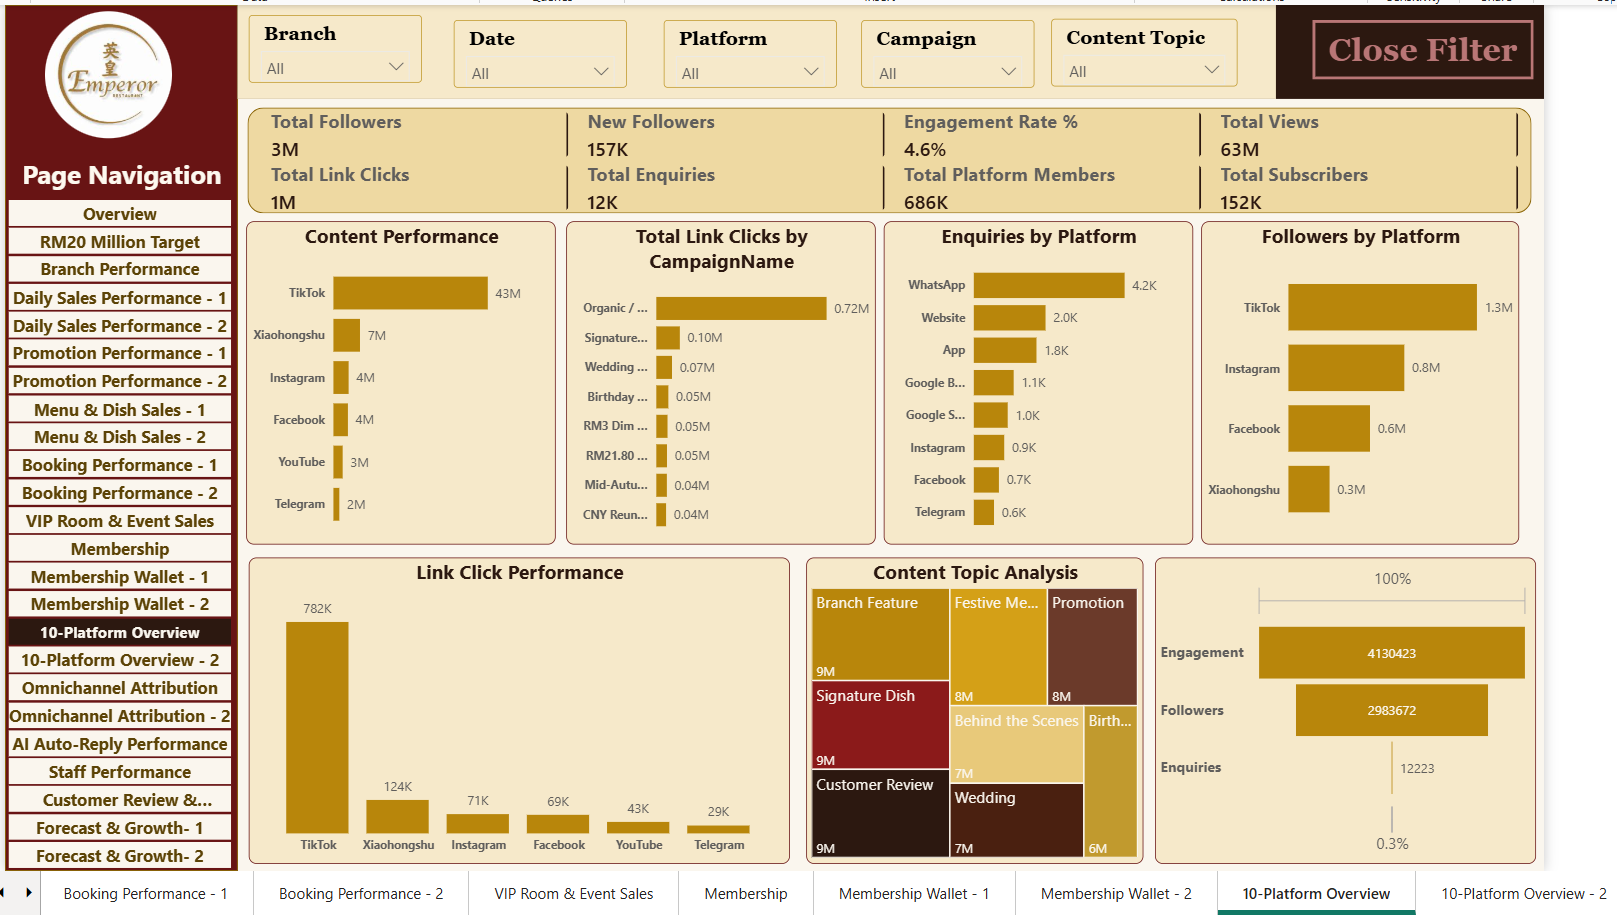

What the dashboard file says about the page in this screenshot:
{"tool":"powerbi","page":{"name":"10-Platform Overview","canvas":[1600,900],"ordinal":15},"visuals":[{"type":"clusteredBarChart","title":"Followers by Platform","fields":{"Category":["Dim_Platform.PlatformName"],"Y":["__DAX_Measures.Total Followers"]},"box":[1243.6,224.1,330.8,336.2],"z":0},{"type":"clusteredBarChart","title":"Content Performance","fields":{"Category":["Dim_Platform.PlatformName"],"Y":["__DAX_Measures.Total Views"]},"box":[251.2,224.1,321.7,336.2],"z":1000},{"type":"clusteredBarChart","title":"Enquiries by Platform","fields":{"Category":["Dim_Platform.PlatformName"],"Y":["__DAX_Measures.Total Enquiries"]},"box":[912.8,224.1,321.7,336.2],"z":2000},{"type":"clusteredColumnChart","title":"Link Click Performance","fields":{"Category":["Dim_Platform.PlatformName"],"Y":["__DAX_Measures.Total Link Clicks"]},"box":[253.1,574.8,562.1,318.1],"z":3000},{"type":"treemap","title":"Content Topic Analysis","fields":{"Group":["Fact_PlatformContent.ContentTopic"],"Values":["__DAX_Measures.Total Views"]},"box":[833.3,574.8,350.7,318.1],"z":4000},{"type":"barChart","fields":{"Category":["Dim_Campaign.CampaignName"],"Y":["__DAX_Measures.Total Link Clicks"]},"box":[583.8,224.1,321.7,336.2],"z":5000},{"type":"funnel","fields":{"Category":["Funnel Stage.Stage"],"Y":["__DAX_Measures.Funnel Value"]},"box":[1194.8,574.8,395.8,318.1],"z":6000},{"type":"shape","box":[0,0,242,900],"z":7000},{"type":"shape","box":[252.1,106.3,1334.5,110],"z":8000},{"type":"cardVisual","fields":{"Data":["__DAX_Measures.Total Followers","__DAX_Measures.New Followers","__DAX_Measures.Engagement Rate %","__DAX_Measures.Total Views","__DAX_Measures.Total Link Clicks","__DAX_Measures.Total Enquiries","__DAX_Measures.Total Platform Members","__DAX_Measures.Total Subscribers"]},"box":[253.9,99.5,1332.8,125.2],"z":9000},{"type":"textbox","box":[241.9,0,1358.5,97.8],"z":10000},{"type":"shape","box":[241.9,0,1078.9,97.8],"z":11000},{"type":"actionButton","title":"Close Filter","box":[1358.5,15.4,229.8,61.7],"z":12000},{"type":"slicer","fields":{"Values":["Dim_Date.Date"]},"box":[466.6,15.4,180.1,70.3],"z":14000},{"type":"slicer","fields":{"Values":["Dim_Branch.BranchName"]},"box":[253.9,10.3,180.1,70.3],"z":15000},{"type":"slicer","fields":{"Values":["Dim_Platform.PlatformName"]},"box":[684.4,15.4,180.1,70.3],"z":16000},{"type":"slicer","fields":{"Values":["Fact_PlatformContent.ContentTopic"]},"box":[1087.5,13.7,193.8,70.3],"z":17000},{"type":"slicer","fields":{"Values":["Dim_Campaign.CampaignName"]},"box":[890.2,15.4,180.1,70.3],"z":18000},{"type":"image","box":[41.9,6.2,131.9,131.9],"z":21000},{"type":"pageNavigator","box":[4.4,202.3,231.1,697.7],"z":21001},{"type":"textbox","box":[0,152.6,242.7,46.5],"z":21002}]}

Visuals, with their boxes on the page's 1600x900 design canvas (x1, y1, x2, y2). These are canvas units, not pixel positions in the 1617x915 screenshot, which may show the page scaled, cropped or inside an application window:
"Followers by Platform" clusteredBarChart: [1244,224,1574,560]
"Content Performance" clusteredBarChart: [251,224,573,560]
"Enquiries by Platform" clusteredBarChart: [913,224,1234,560]
"Link Click Performance" clusteredColumnChart: [253,575,815,893]
"Content Topic Analysis" treemap: [833,575,1184,893]
barChart - Dim_Campaign.CampaignName x __DAX_Measures.Total Link Clicks: [584,224,906,560]
funnel - Funnel Stage.Stage x __DAX_Measures.Funnel Value: [1195,575,1591,893]
shape: [0,0,242,900]
shape: [252,106,1587,216]
cardVisual - __DAX_Measures.Total Followers x __DAX_Measures.New Followers: [254,100,1587,225]
textbox: [242,0,1600,98]
shape: [242,0,1321,98]
"Close Filter" actionButton: [1358,15,1588,77]
slicer - Dim_Date.Date: [467,15,647,86]
slicer - Dim_Branch.BranchName: [254,10,434,81]
slicer - Dim_Platform.PlatformName: [684,15,864,86]
slicer - Fact_PlatformContent.ContentTopic: [1088,14,1281,84]
slicer - Dim_Campaign.CampaignName: [890,15,1070,86]
image: [42,6,174,138]
pageNavigator: [4,202,236,900]
textbox: [0,153,243,199]
